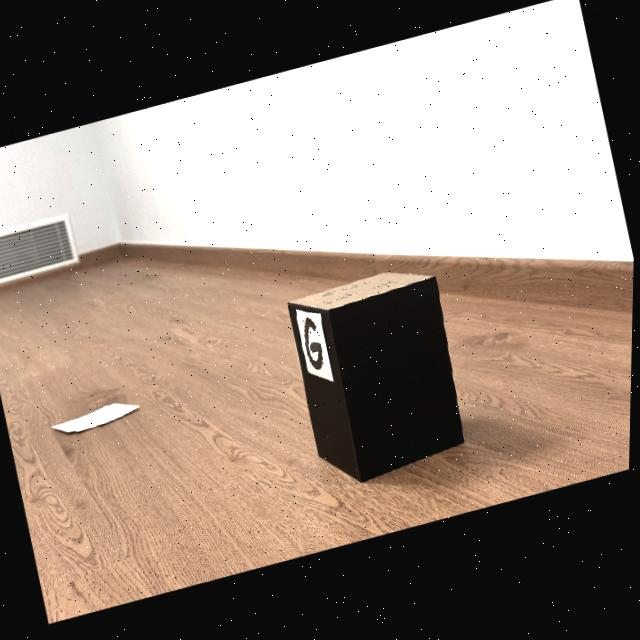G: (306, 320, 325, 372)
